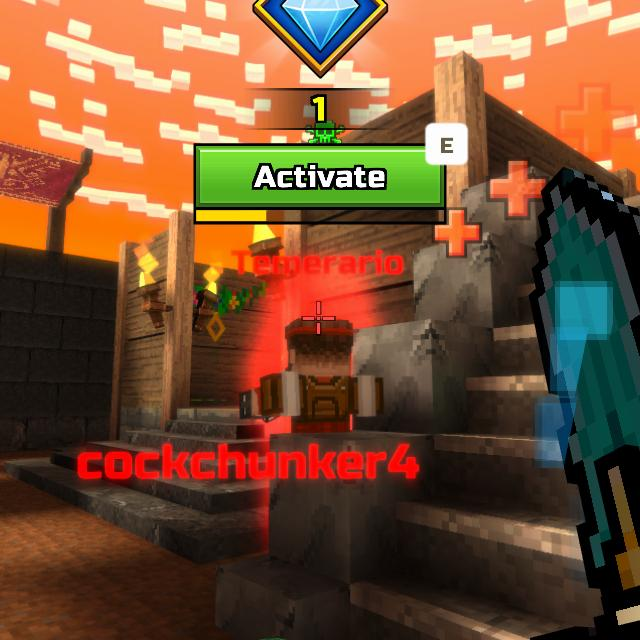Enemy: (239, 318, 384, 432)
